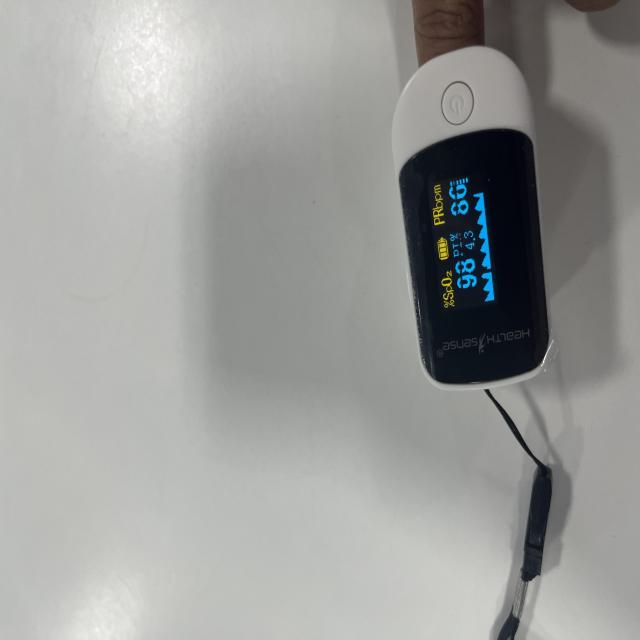spo2: (390, 42, 553, 390)
